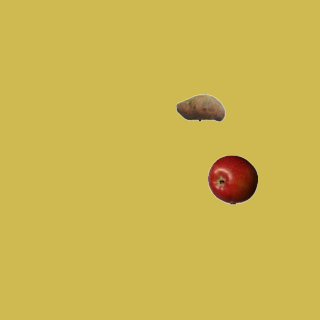Apple Braeburn: (207, 154, 257, 204)
Potato Sweet: (175, 82, 225, 132)
